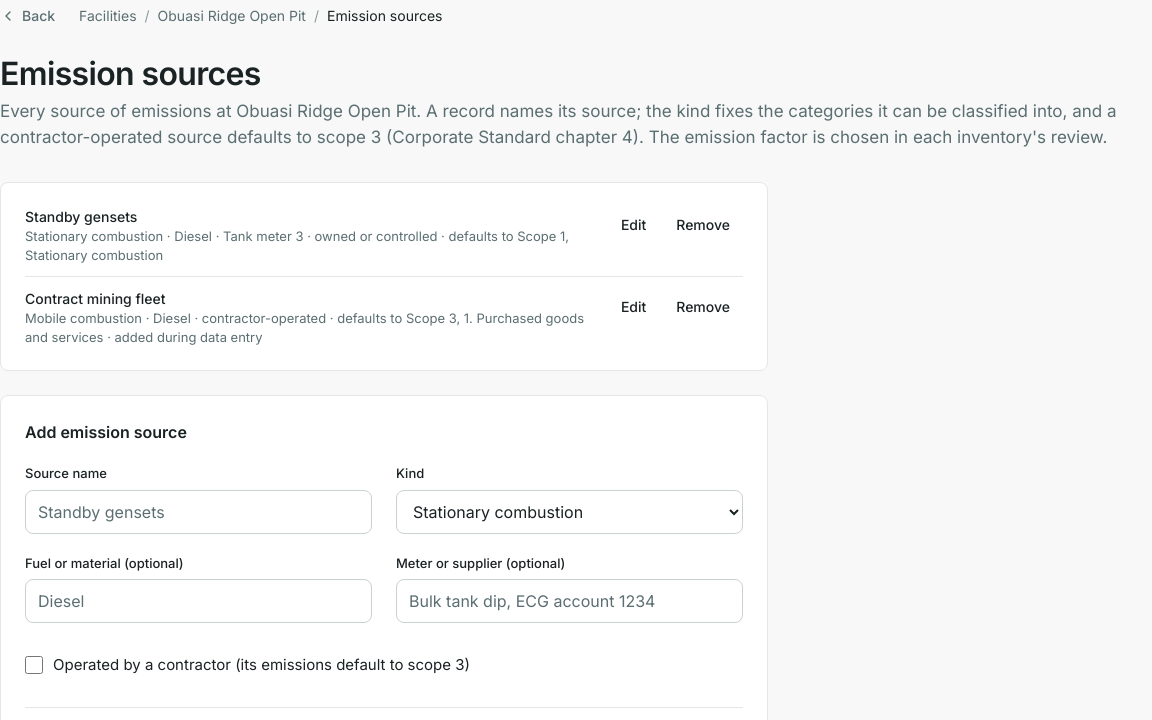
Test case: Remove asks for confirmation before the source goes
Click the button with aria-label "Remove emission source Standby gensets".
click(703, 225)  # box [663,207,743,243]
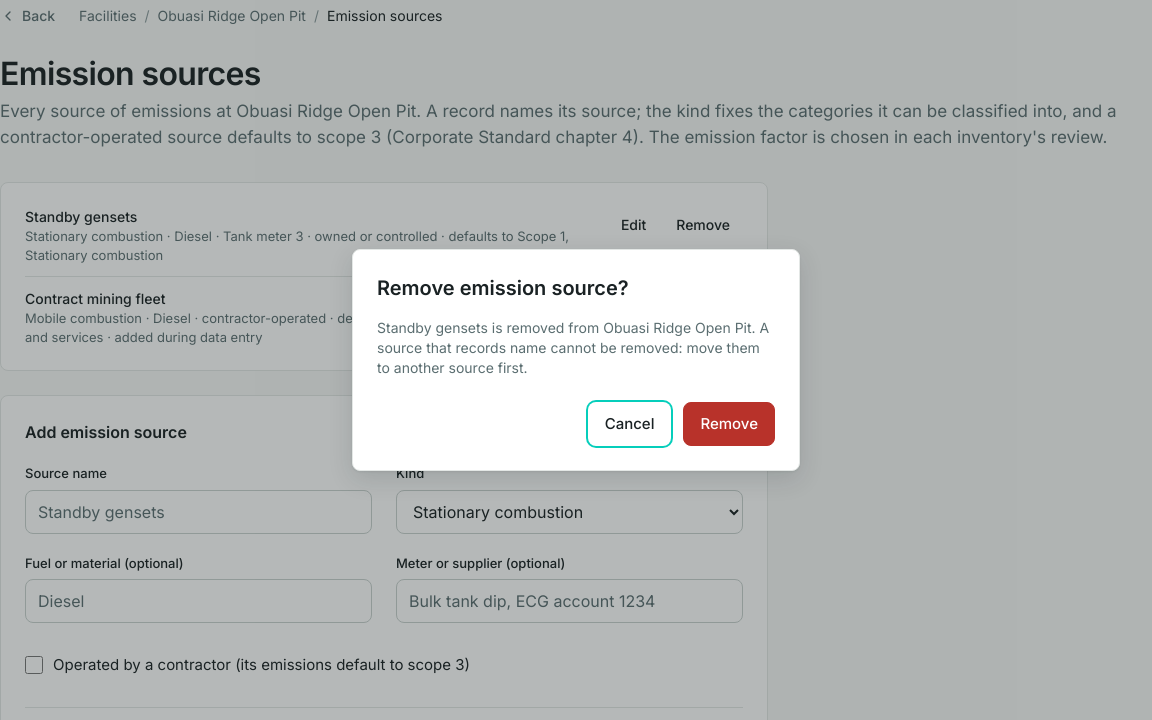
Click the button "Remove".
click(729, 424)  # box [683,402,775,446]
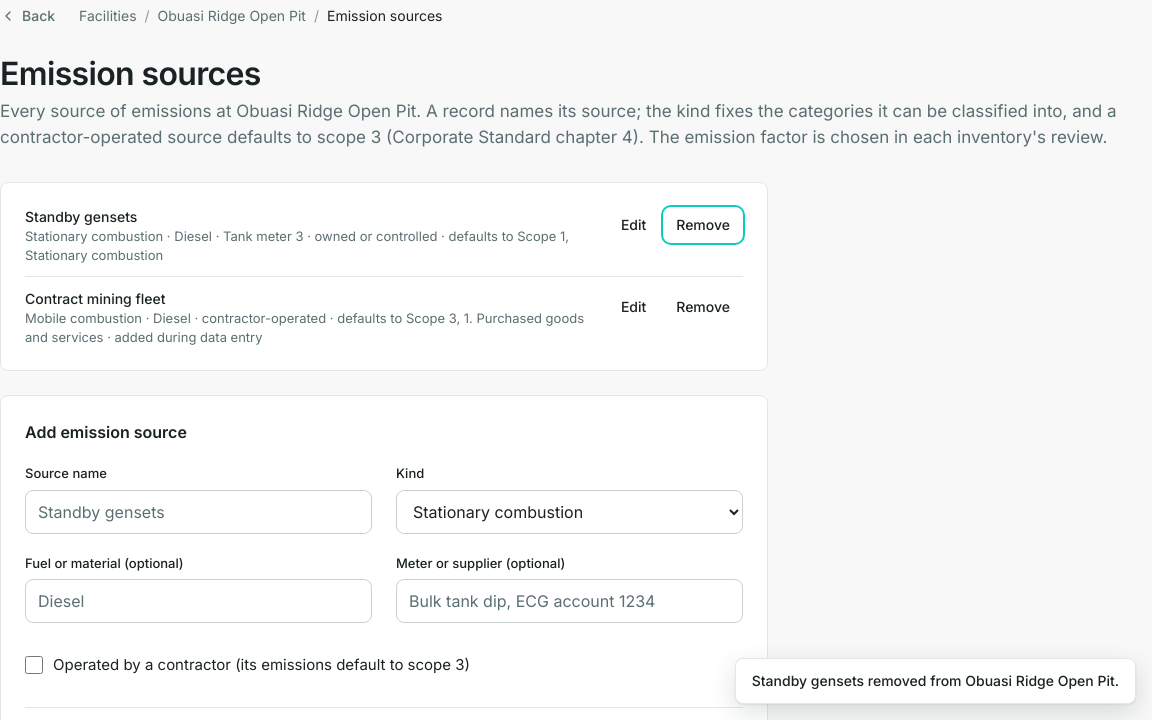
Expected: the text "Standby gensets removed from Obuasi Ridge Open Pit." is shown, [735,658,1136,704]
